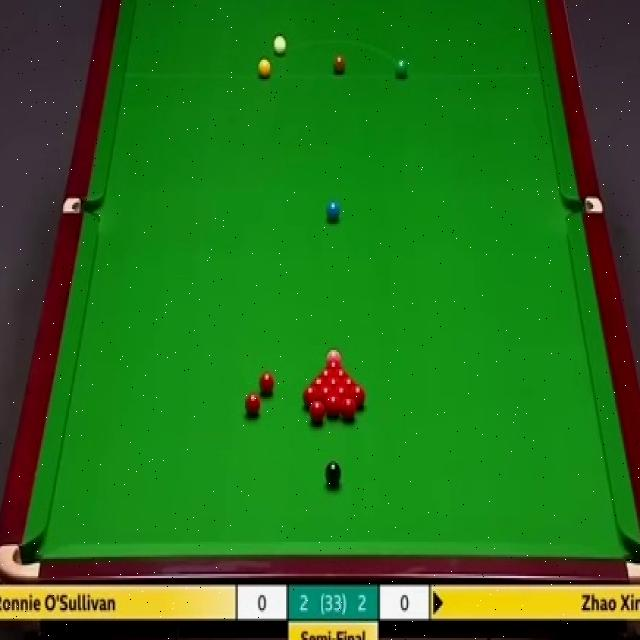black-ball: (324, 458, 342, 488)
blue-ball: (328, 201, 341, 224)
brown-ball: (332, 56, 346, 75)
green-ball: (395, 58, 408, 79)
pink-ball: (325, 346, 342, 363)
red-ball: (258, 369, 278, 396), (308, 400, 326, 426), (324, 393, 341, 419), (349, 385, 367, 406), (244, 392, 260, 415), (342, 395, 358, 418), (302, 384, 318, 406), (318, 385, 334, 401), (335, 386, 349, 404), (332, 369, 351, 380), (341, 377, 358, 388), (325, 378, 342, 388), (324, 359, 342, 368), (316, 369, 332, 379), (311, 378, 325, 389)
white-ball: (271, 31, 287, 56)
yellow-ball: (257, 57, 273, 79)
